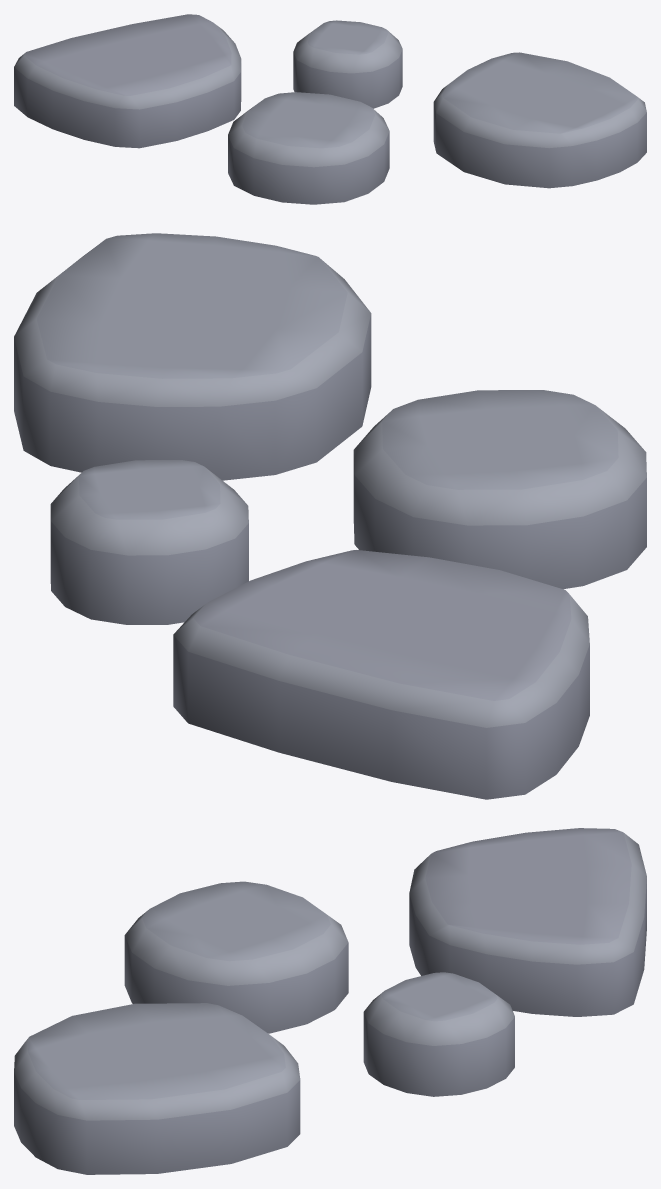
File: Cobblestones.glb
3 renders of one model, top to bottom at view 1: azimuth 30°, elevation 25°; view 2: azimuth 150°, elevation 25°; view 3: azimuth 270°, elevation 25°, orthographic. The views are drawn at different scales.
Visible parts, largest first — view 1: cobblestones; view 2: cobblestones; view 3: cobblestones.
Part boxes in pixels (box(x1,y1,x2,y2)): cobblestones: box(14, 14, 646, 204); cobblestones: box(14, 233, 646, 799); cobblestones: box(14, 828, 646, 1174).
Size of the model in its own units: 1.79 by 0.1988 by 1.66.
Materials: 1 (1 with a texture image).
